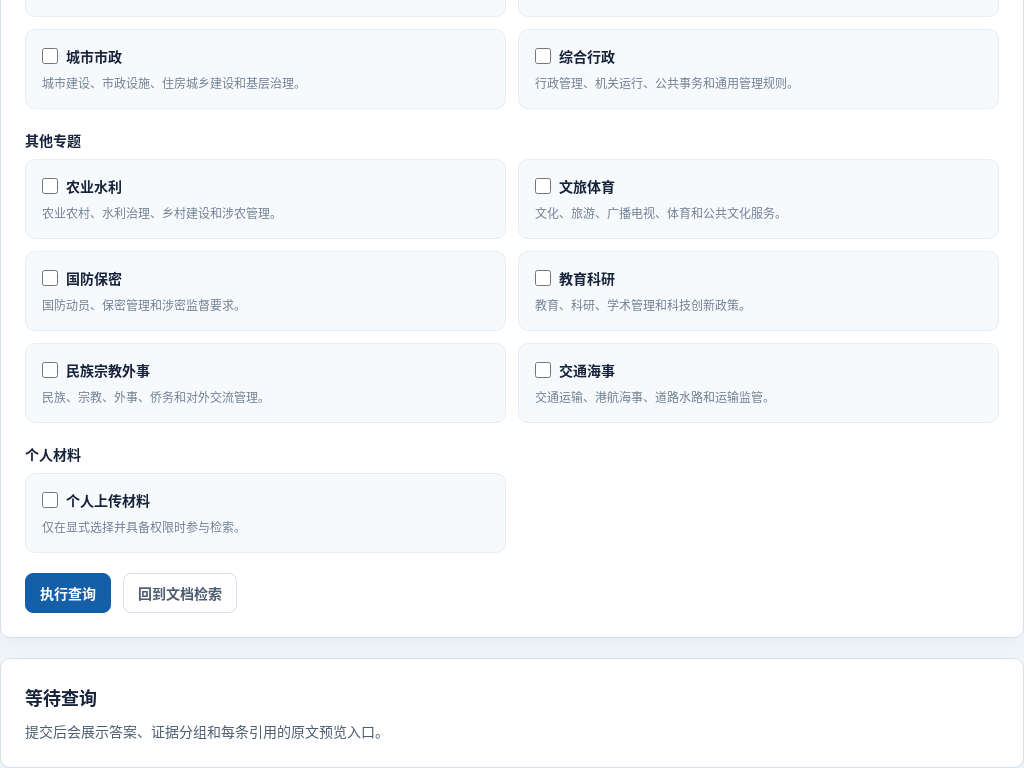
KnowledgeQueryWorkbench › shows a conservative error state when the backend query fails
(page scrolled)
What coordinates should you click on to do the following:
click the button "执行查询"
I would click on:
 (68, 593)
Its box is top-left (25, 573), bottom-right (111, 613).
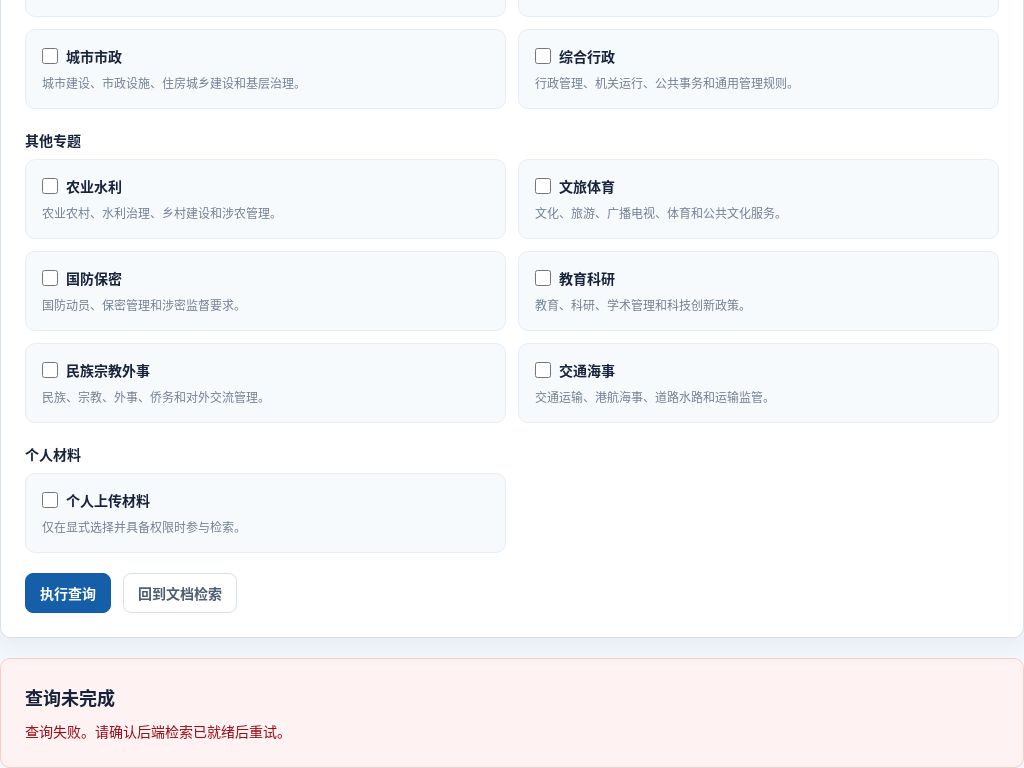
Expected: the text "查询失败。请确认后端检索已就绪后重试。" is shown, top-left (25, 721), bottom-right (291, 741)
